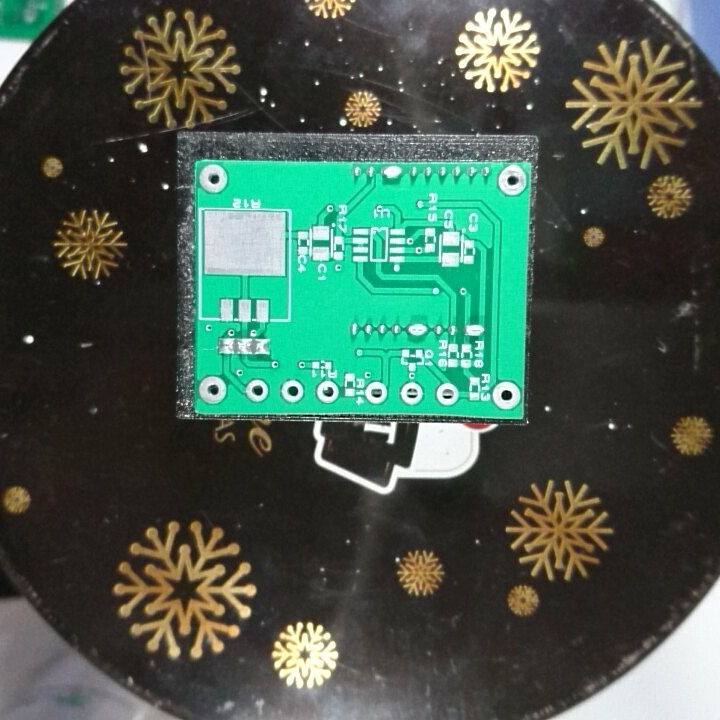F: (496, 162, 529, 199), (490, 378, 522, 414), (197, 161, 229, 195), (197, 373, 228, 408), (242, 376, 273, 403), (314, 377, 341, 405), (399, 379, 426, 406), (278, 377, 305, 404), (363, 378, 389, 406), (434, 379, 459, 407)
P: (405, 320, 431, 340), (462, 321, 488, 340), (378, 164, 405, 181)
